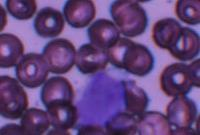M: (76, 70, 126, 127)
